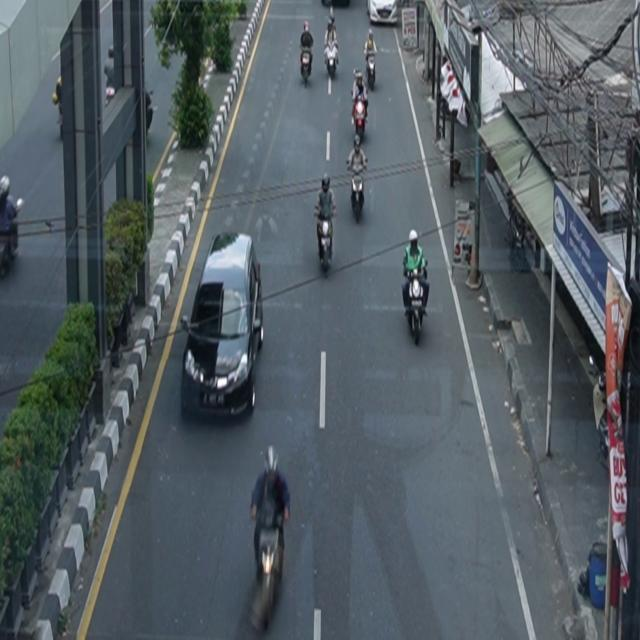car: (181, 232, 265, 421)
